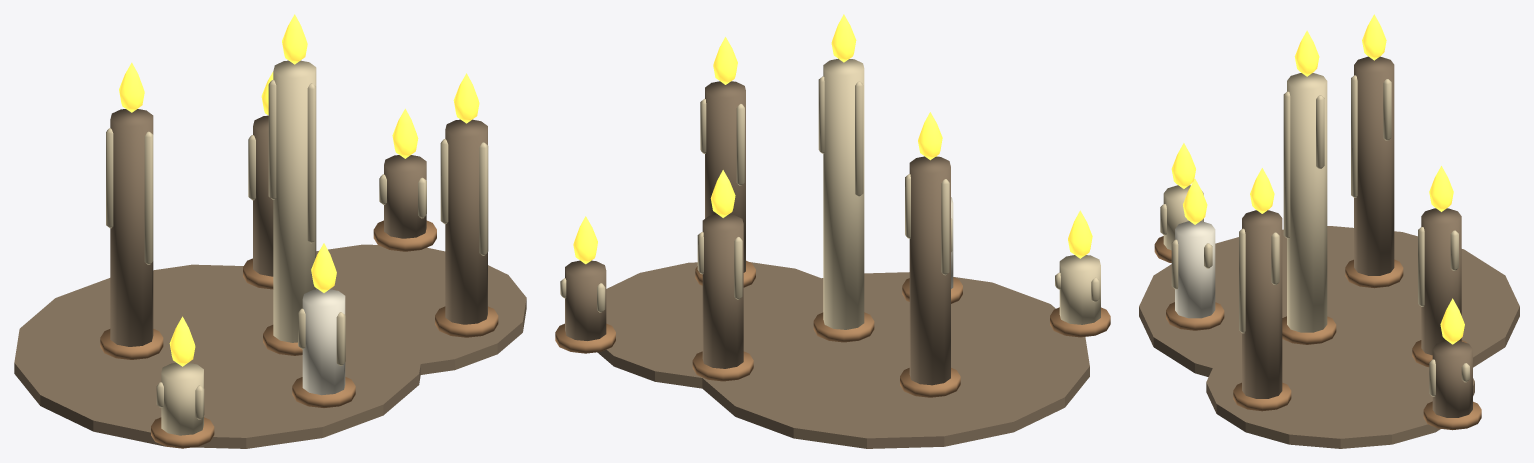
Rendered from candle_cluster.glb.
3 views of the same model, side by side, from view 1: azimuth 30°, elevation 25°; view 2: azimuth 150°, elevation 25°; view 3: azimuth 270°, elevation 25° (orthographic). The views are drawn at different scales.
Visible parts, largest first — view 1: candle_cluster; view 2: candle_cluster; view 3: candle_cluster.
Boxes of the visible parts, x1,y1,x2,y2 form: candle_cluster: [14, 14, 526, 448]; candle_cluster: [555, 14, 1110, 448]; candle_cluster: [1139, 14, 1519, 448].
Bounding box in the file's own units: 0.45 × 0.31 × 0.34.
